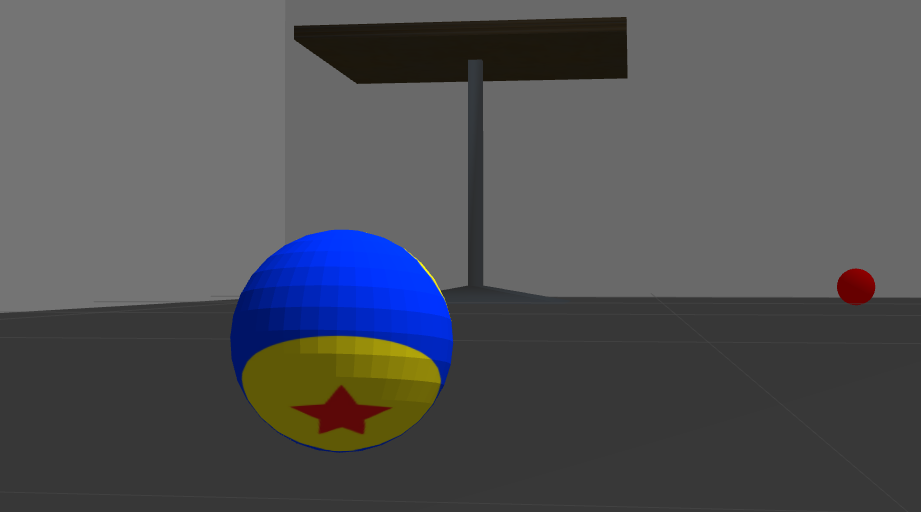toy story ball: (230, 229, 452, 453)
